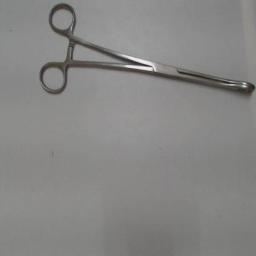Sponge Forceps: (36, 2, 256, 102), (36, 2, 256, 102), (36, 2, 256, 102)
